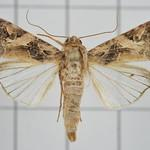Spodoptera litura: (1, 9, 150, 143)
